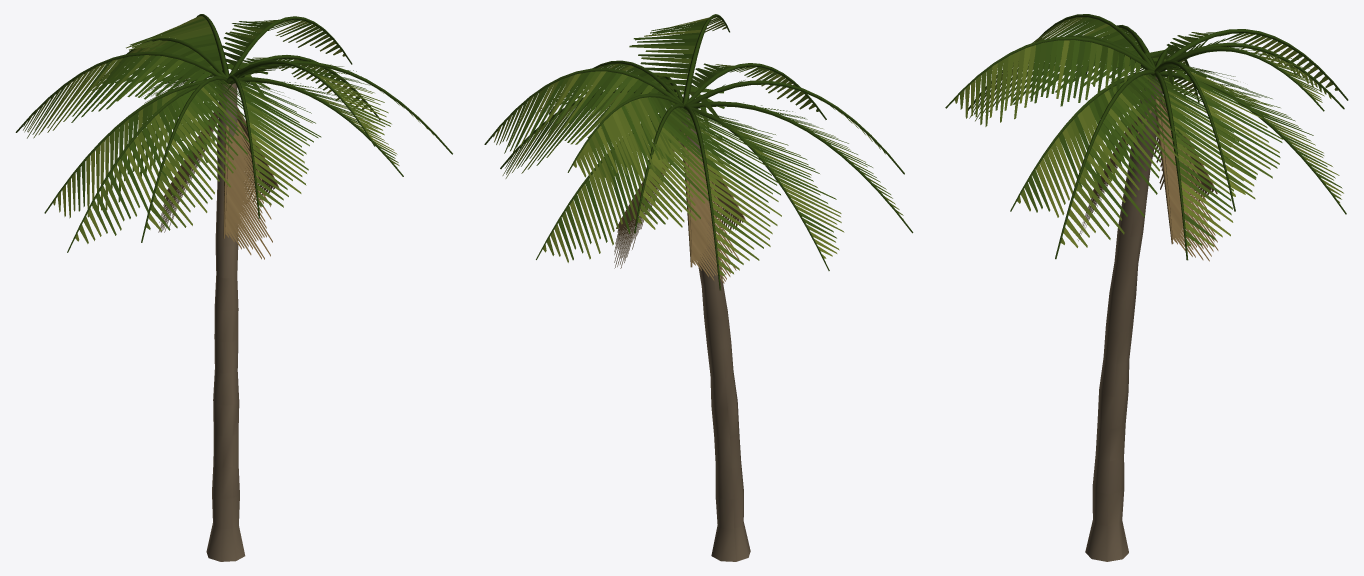
The model's file is PLN_Palm_Short.fbx.
3 renders of one model, left to right at view 1: azimuth 30°, elevation 25°; view 2: azimuth 150°, elevation 25°; view 3: azimuth 270°, elevation 25°, orthographic. The views are drawn at different scales.
Parts seen in each view (by area): view 1: PLN_Palm_Short; view 2: PLN_Palm_Short; view 3: PLN_Palm_Short.
Part boxes in pixels (<box>): PLN_Palm_Short: <box>15,14,452,561</box>; PLN_Palm_Short: <box>484,14,913,561</box>; PLN_Palm_Short: <box>945,14,1348,561</box>.
Size of the model in its own units: 8.29 by 10.45 by 7.11.
